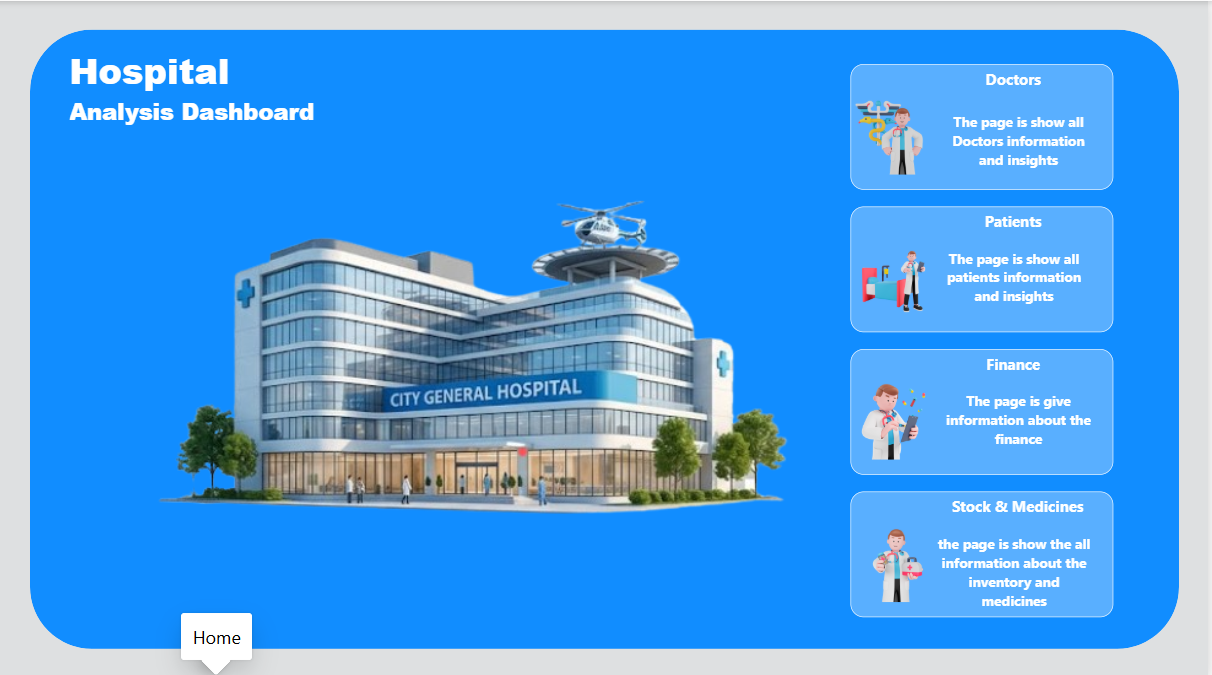

Layout of this report page (visuals, bound fields, positions):
{"tool":"powerbi","page":{"name":"Home","canvas":[1280,720],"ordinal":0},"visuals":[{"type":"shape","box":[31.8,30.2,1218.4,656.9],"z":0,"group":"g1"},{"type":"shape","box":[901.1,66.8,278.4,133.6],"z":1000,"group":"g1"},{"type":"shape","box":[1025.9,65.2,97,33.4],"z":2000,"group":"g1"},{"type":"shape","box":[901.1,217.9,278.4,133.6],"z":3000,"group":"g1"},{"type":"shape","box":[901.1,369,278.4,133.6],"z":4000,"group":"g1"},{"type":"shape","box":[901.1,520.1,278.4,133.6],"z":5000,"group":"g1"},{"type":"shape","box":[1025.9,216.3,97,33.4],"z":6000,"group":"g1"},{"type":"shape","box":[1025.9,367.4,97,33.4],"z":7000,"group":"g1"},{"type":"shape","box":[1003.7,518.5,151.1,33.4],"z":8000,"group":"g1"},{"type":"image","box":[154.3,147.9,714.2,458.1],"z":9000,"group":"g1"},{"type":"textbox","box":[68.4,41.3,287.9,117.7],"z":10000,"group":"g1"},{"type":"image","box":[901.9,82.7,84.3,117.7],"z":11000,"group":"g1"},{"type":"image","box":[906.6,233.8,84.3,117.7],"z":12000,"group":"g1"},{"type":"image","box":[906.6,384.9,84.3,117.7],"z":13000,"group":"g1"},{"type":"image","box":[908.2,536,84.3,117.7],"z":14000,"group":"g1"},{"type":"shape","box":[986.2,254.5,178.1,76.3],"z":15000,"group":"g1"},{"type":"shape","box":[990.9,405.6,178.1,76.3],"z":16000,"group":"g1"},{"type":"shape","box":[986.2,556.7,178.1,97],"z":17000,"group":"g1"},{"type":"shape","box":[990.9,109.7,178.1,76.3],"z":18000,"group":"g1"},{"type":"actionButton","box":[903.5,66.8,276.8,133.6],"z":19000,"group":"g1"},{"type":"actionButton","box":[901.9,216.3,278.4,135.2],"z":20000,"group":"g1"},{"type":"actionButton","box":[903.5,369,278.4,135.2],"z":21000,"group":"g1"},{"type":"actionButton","box":[901.9,518.5,278.4,135.2],"z":22000,"group":"g1"},{"type":"pageNavigator","box":[154.3,618.7,725.3,49.3],"z":22001,"group":"g1"},{"type":"group","id":"g1","title":"Group 1","box":[31.8,30.2,1218.4,656.9],"z":22002}]}

Visuals, with their boxes in screenshot pixels (x1, y1, x2, y2), scaled from the page's 1280x720 canvas onto the 1212x675 screenshot:
shape: left=30, top=28, right=1184, bottom=644
shape: left=853, top=63, right=1117, bottom=188
shape: left=971, top=61, right=1063, bottom=92
shape: left=853, top=204, right=1117, bottom=330
shape: left=853, top=346, right=1117, bottom=471
shape: left=853, top=488, right=1117, bottom=613
shape: left=971, top=203, right=1063, bottom=234
shape: left=971, top=344, right=1063, bottom=376
shape: left=950, top=486, right=1093, bottom=517
image: left=146, top=139, right=822, bottom=568
textbox: left=65, top=39, right=337, bottom=149
image: left=854, top=78, right=934, bottom=188
image: left=858, top=219, right=938, bottom=330
image: left=858, top=361, right=938, bottom=471
image: left=860, top=502, right=940, bottom=613
shape: left=934, top=239, right=1102, bottom=310
shape: left=938, top=380, right=1107, bottom=452
shape: left=934, top=522, right=1102, bottom=613
shape: left=938, top=103, right=1107, bottom=174
actionButton: left=856, top=63, right=1118, bottom=188
actionButton: left=854, top=203, right=1118, bottom=330
actionButton: left=856, top=346, right=1119, bottom=473
actionButton: left=854, top=486, right=1118, bottom=613
pageNavigator: left=146, top=580, right=833, bottom=626
"Group 1" group: left=30, top=28, right=1184, bottom=644
